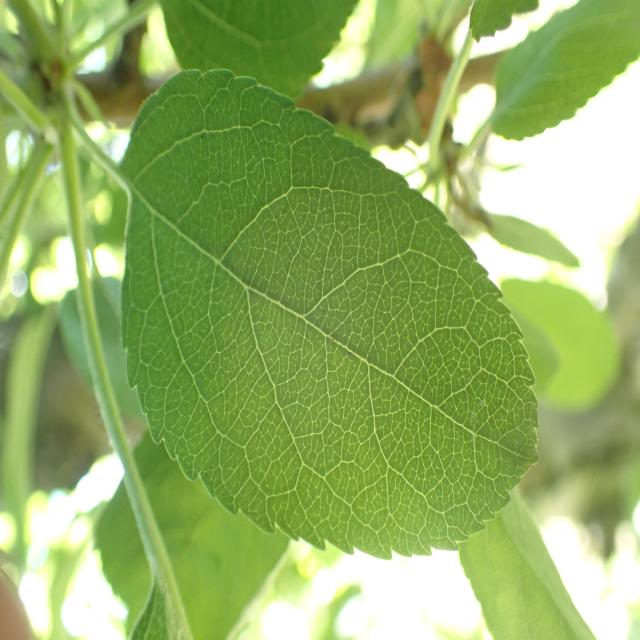healthy: (118, 67, 540, 561), (489, 0, 640, 143), (458, 487, 597, 640), (160, 0, 360, 100)
